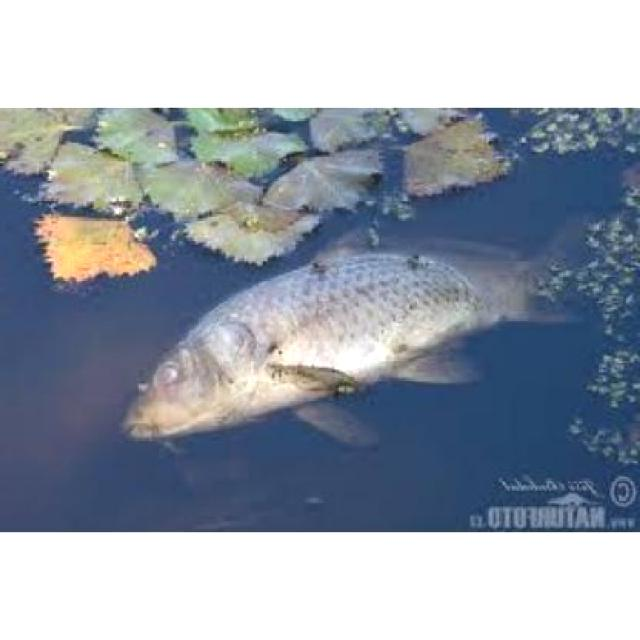ikan-mas: (112, 227, 571, 441)
